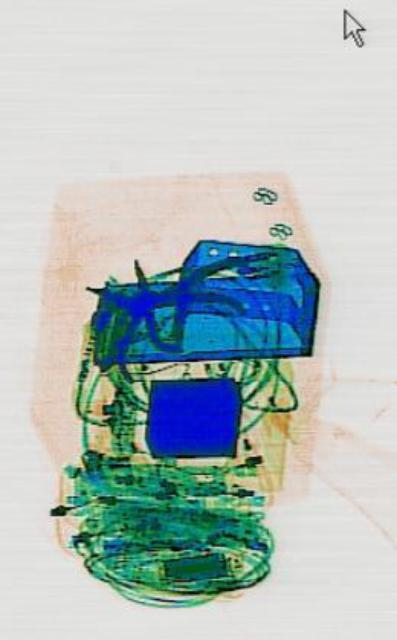Pliers: (69, 178, 242, 434)
